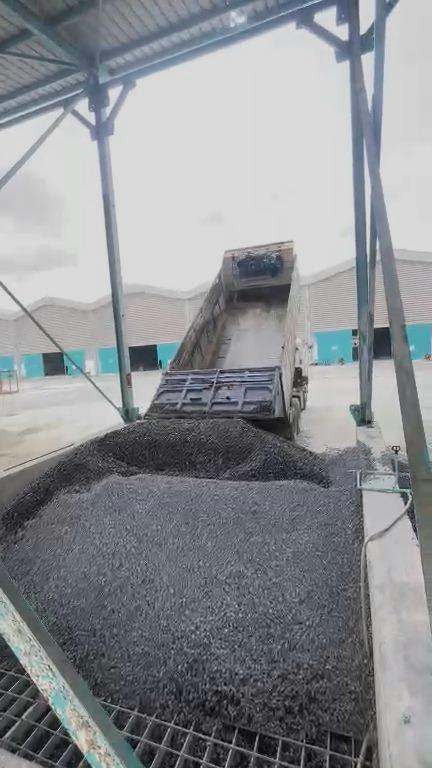gravel: (1, 439, 379, 740), (40, 418, 330, 504), (1, 632, 24, 671)
sand: (1, 427, 40, 468)
